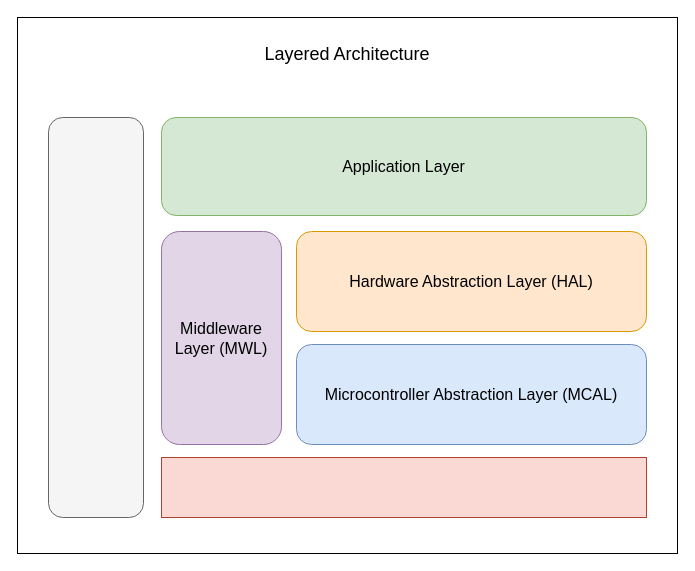
The diagram is 695 pixels wide and 571 high, and some of its shapes have lost their labels. Here are the shapes that lost their labels. From the top down, the centre of each, then its label:
[96,317]: Library (LIB)
[403,487]: Microcontroller
